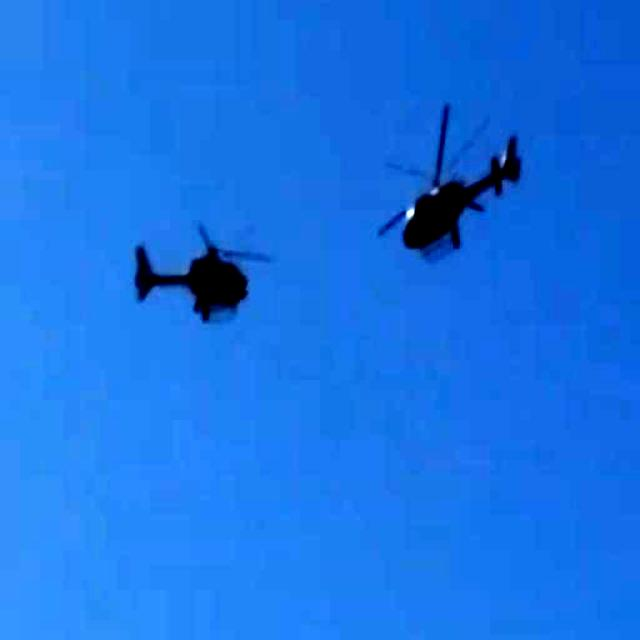drone: (384, 108, 528, 261), (129, 218, 260, 332)
